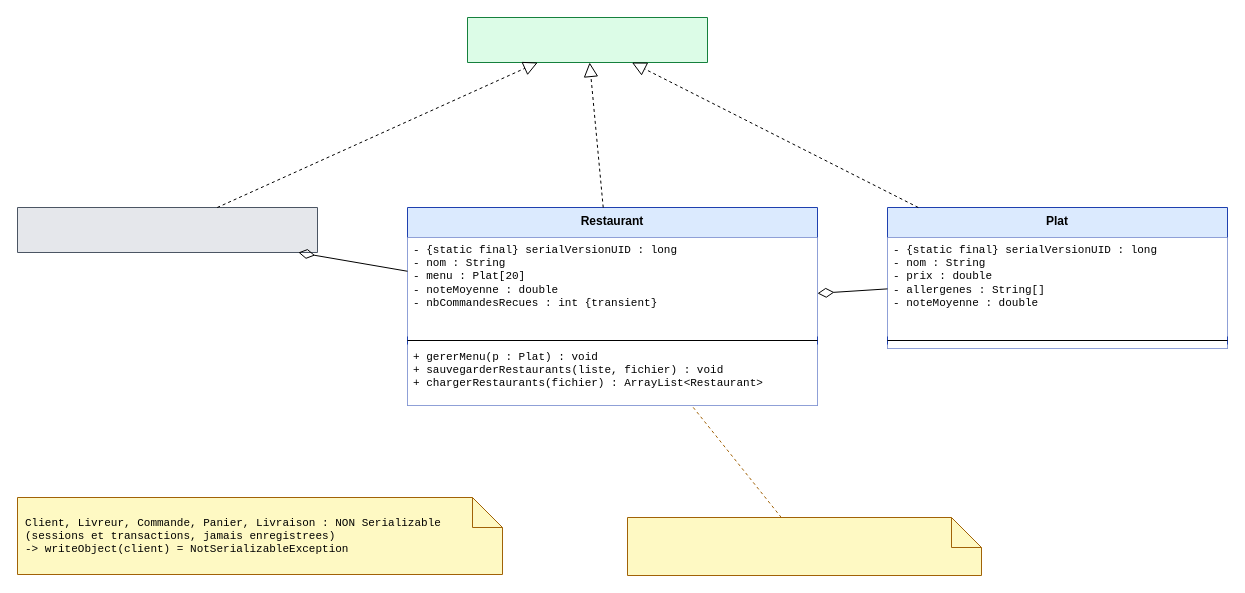
Some shapes in this 1245 by 593 pixel diagram are drawn without their labels. Each missing label, with the box of its shape:
transient : champ ignore par la serialisation (vaut 0 apres readObject): (626, 516, 982, 576)
«interface java.io» Serializable: (466, 16, 708, 62)
«java.util» ArrayList<Restaurant>: (16, 206, 318, 252)
